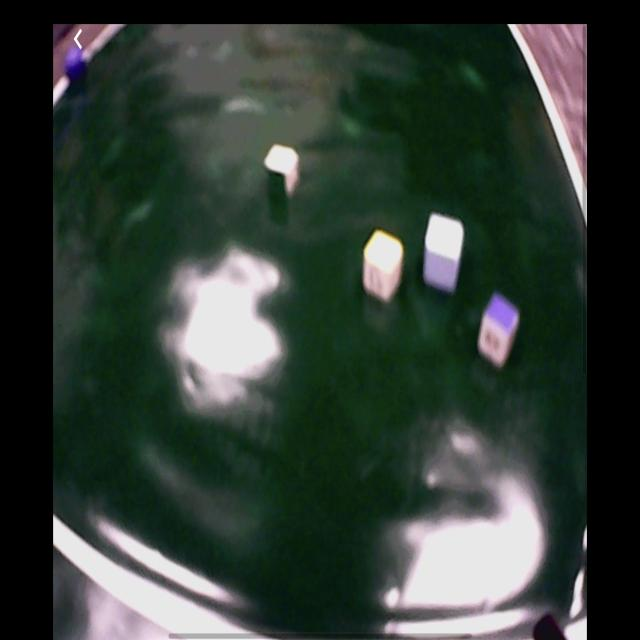ball: (64, 48, 85, 83)
